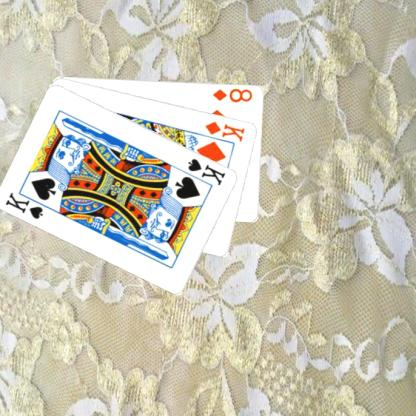8D: (210, 86, 254, 104)
KD: (203, 118, 246, 143)
KS: (3, 188, 52, 220), (185, 155, 227, 187)
